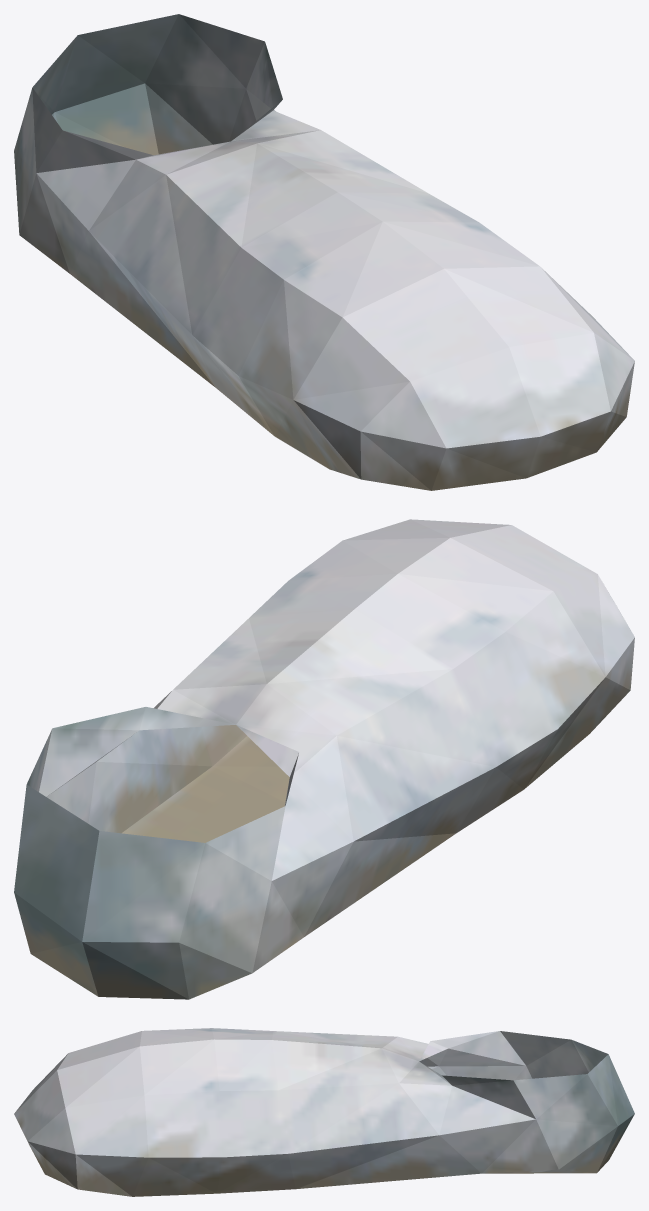
Rendered from Pata2_Trasera_Izq.obj.
3 renders of one model, top to bottom at view 1: azimuth 30°, elevation 25°; view 2: azimuth 150°, elevation 25°; view 3: azimuth 270°, elevation 25°, orthographic. The views are drawn at different scales.
Visible parts, largest first — view 1: Pata2_Trasera_Izquierda; view 2: Pata2_Trasera_Izquierda; view 3: Pata2_Trasera_Izquierda.
Boxes of the visible parts, x1=… form: Pata2_Trasera_Izquierda: x1=14, y1=14, x2=634, y2=490; Pata2_Trasera_Izquierda: x1=14, y1=519, x2=634, y2=999; Pata2_Trasera_Izquierda: x1=14, y1=1028, x2=634, y2=1196.
Size of the model in its own units: 0.0408 by 0.0241 by 0.106.
Materials: 1 (1 with a texture image).
